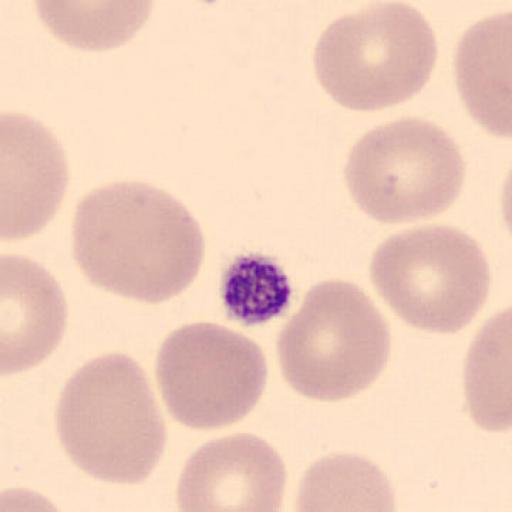Platelet: (218, 250, 296, 328)
RBC: (70, 178, 206, 306), (53, 352, 167, 487), (274, 276, 392, 404), (312, 0, 440, 114), (368, 222, 492, 335), (342, 114, 467, 226), (152, 320, 270, 434), (2, 108, 71, 243), (175, 431, 289, 511), (2, 256, 69, 376), (452, 8, 512, 140), (30, 0, 158, 54), (292, 450, 399, 512), (462, 306, 512, 436), (0, 458, 77, 512), (2, 484, 75, 512)
